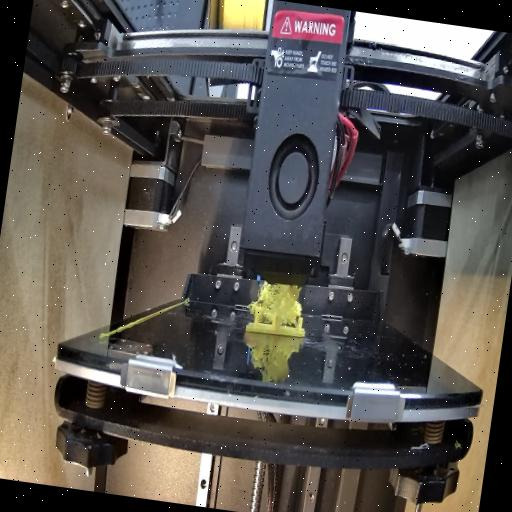spaghetti: (248, 270, 307, 328)
